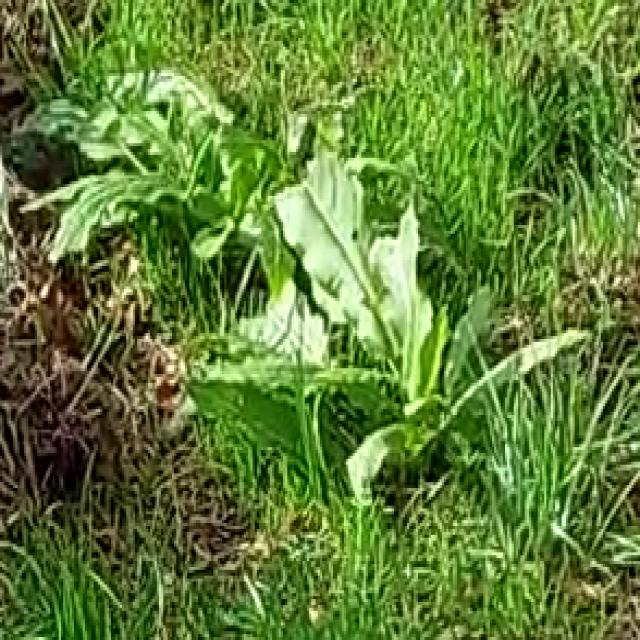organic waste: (211, 131, 507, 459), (37, 24, 318, 292)
